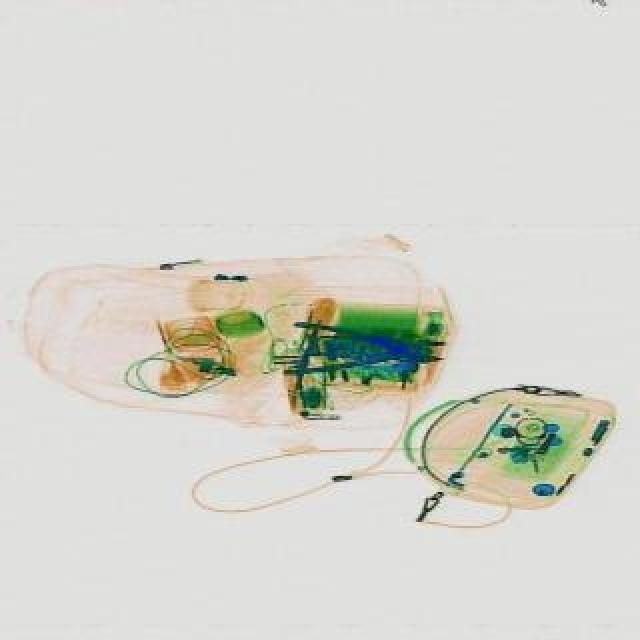wrench: (280, 320, 444, 380)
